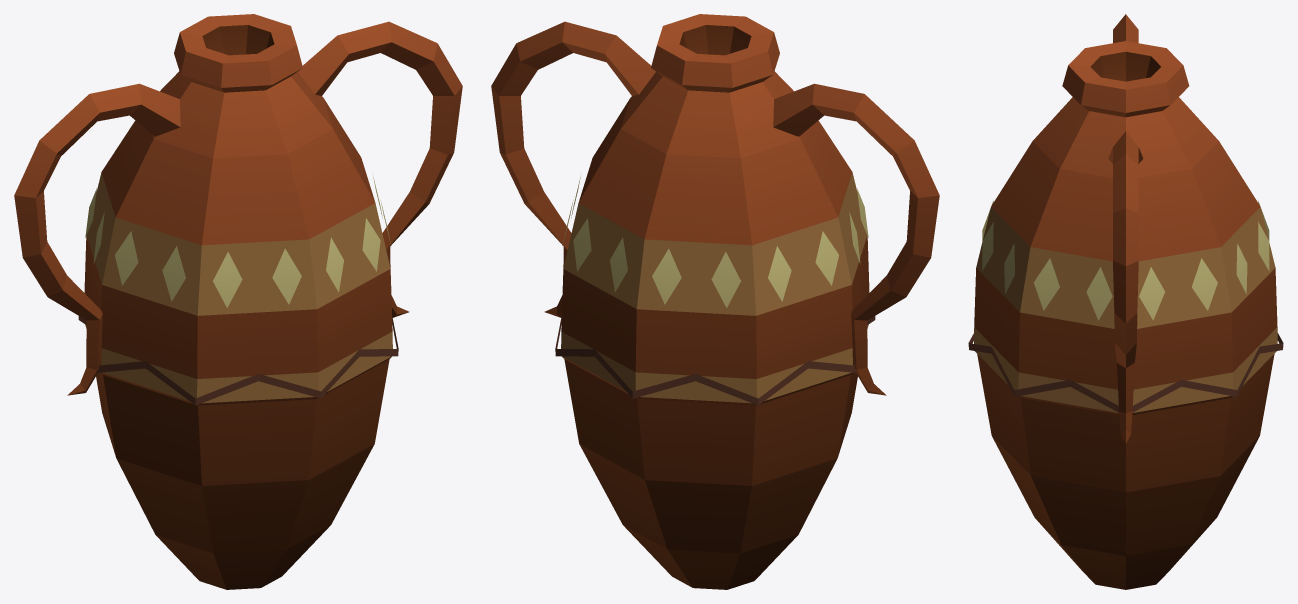
Rendered from egypt_env_vase_01.gltf.
3 views of the same model, side by side, from view 1: azimuth 30°, elevation 25°; view 2: azimuth 150°, elevation 25°; view 3: azimuth 270°, elevation 25° (orthographic). The views are drawn at different scales.
Visible parts, largest first — view 1: egypt_env_vase_01_glb; view 2: egypt_env_vase_01_glb; view 3: egypt_env_vase_01_glb.
Boxes of the visible parts, left/top/right/bottom form: egypt_env_vase_01_glb: left=14, top=14, right=462, bottom=589; egypt_env_vase_01_glb: left=491, top=14, right=939, bottom=589; egypt_env_vase_01_glb: left=968, top=14, right=1283, bottom=589.
Size of what is drawn, in the model's own units: 1.2 by 1.37 by 0.7703.
Materials: 1 (1 with a texture image).
